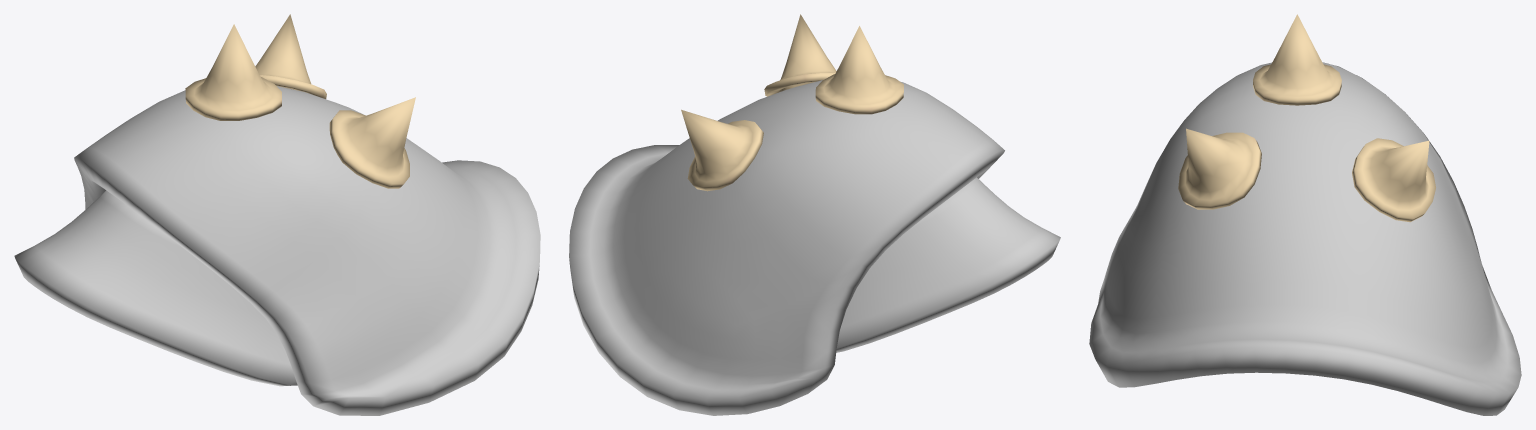
The model's file is ShoulderPad.fbx.
The picture shows the model from 3 angles, left to right: view 1: azimuth 30°, elevation 25°; view 2: azimuth 150°, elevation 25°; view 3: azimuth 270°, elevation 25°; orthographic projection. The views are drawn at different scales.
Parts seen in each view (by area): view 1: ShoulderPad, ShoulderUnder, SteelShoulder; view 2: ShoulderPad, ShoulderUnder, SteelShoulder; view 3: ShoulderPad, SteelShoulder.
Boxes of the visible parts, bbox=[...] form: ShoulderPad: bbox=[74, 86, 540, 415]; ShoulderUnder: bbox=[14, 190, 297, 386]; SteelShoulder: bbox=[185, 14, 415, 188]; ShoulderPad: bbox=[569, 80, 1004, 415]; ShoulderUnder: bbox=[836, 177, 1060, 352]; SteelShoulder: bbox=[681, 14, 903, 191]; ShoulderPad: bbox=[1089, 62, 1521, 415]; SteelShoulder: bbox=[1178, 14, 1435, 222].
Size of the model in its own units: 78.41 by 55.79 by 63.77.
